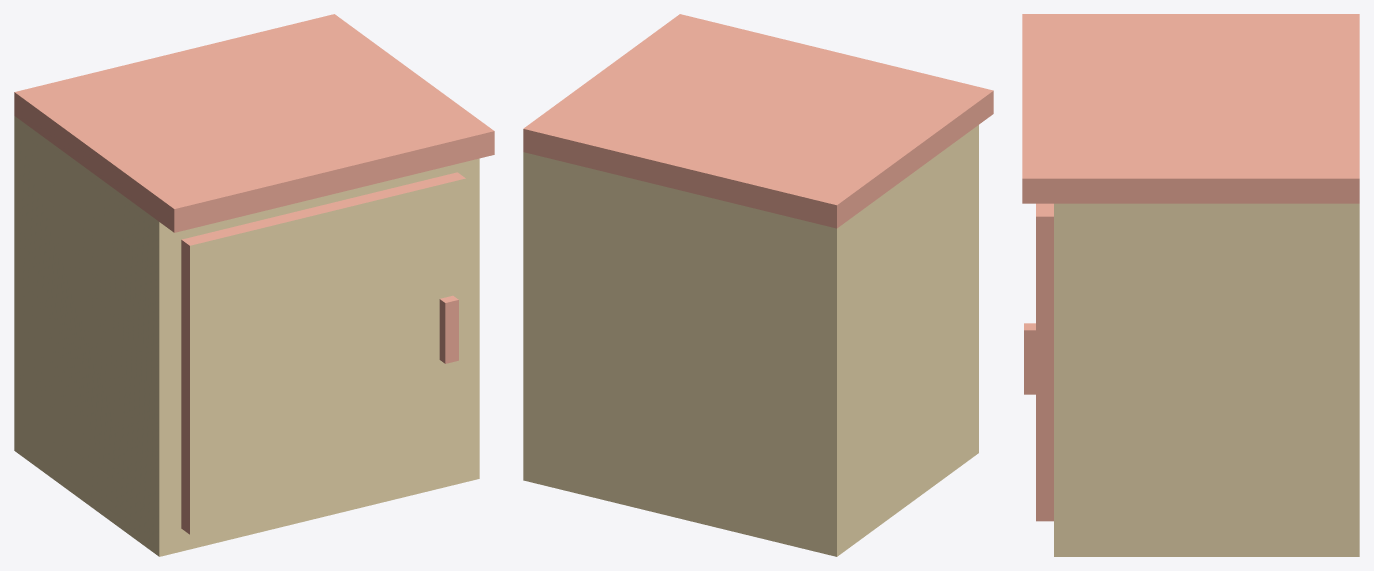
The model's file is Counter.fbx.
3 views of the same model, side by side, from view 1: azimuth 30°, elevation 25°; view 2: azimuth 150°, elevation 25°; view 3: azimuth 270°, elevation 25° (orthographic). The views are drawn at different scales.
Parts seen in each view (by area): view 1: Counter; view 2: Counter; view 3: Counter.
Part boxes in pixels (x1,y1,x2,y2): Counter: [14, 14, 494, 556]; Counter: [523, 14, 993, 556]; Counter: [1022, 14, 1359, 556].
Bounding box in the file's own units: 133 × 143 × 115.
